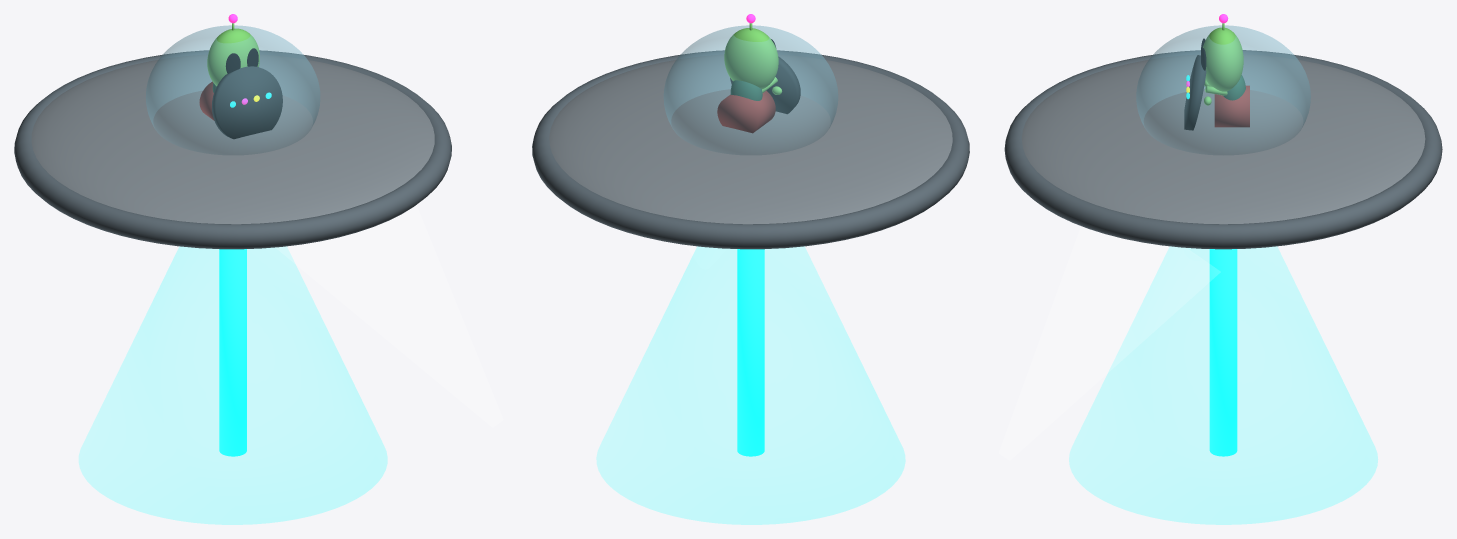
Rendered from Alien-Flying-Saucer-first.glb.
3 renders of one model, left to right at view 1: azimuth 30°, elevation 25°; view 2: azimuth 150°, elevation 25°; view 3: azimuth 270°, elevation 25°, orthographic.
Visible parts, largest first — view 1: TractorBeam_FX, Saucer_UpperHull, GlassDome, SearchlightBeam, Saucer_Rim, TractorBeam_Core, CockpitConsole, Alien_Head; view 2: TractorBeam_FX, Saucer_UpperHull, GlassDome, Saucer_Rim, TractorBeam_Core, Alien_Head, PilotSeat, CockpitConsole; view 3: TractorBeam_FX, Saucer_UpperHull, SearchlightBeam, GlassDome, Saucer_Rim, TractorBeam_Core, Alien_Head, PilotSeat, CockpitConsole.
Boxes of the visible parts, x1=… form: TractorBeam_FX: x1=79, y1=246, x2=387, y2=524; Saucer_UpperHull: x1=31, y1=54, x2=434, y2=224; GlassDome: x1=146, y1=25, x2=320, y2=154; SearchlightBeam: x1=277, y1=205, x2=502, y2=426; Saucer_Rim: x1=14, y1=50, x2=451, y2=249; TractorBeam_Core: x1=219, y1=249, x2=246, y2=456; CockpitConsole: x1=212, y1=66, x2=282, y2=139; Alien_Head: x1=207, y1=28, x2=259, y2=86; TractorBeam_FX: x1=596, y1=246, x2=905, y2=524; Saucer_UpperHull: x1=549, y1=54, x2=952, y2=224; GlassDome: x1=663, y1=25, x2=838, y2=154; Saucer_Rim: x1=532, y1=50, x2=969, y2=249; TractorBeam_Core: x1=737, y1=249, x2=764, y2=456; Alien_Head: x1=724, y1=28, x2=778, y2=89; PilotSeat: x1=717, y1=90, x2=775, y2=133; CockpitConsole: x1=730, y1=56, x2=800, y2=114; TractorBeam_FX: x1=1069, y1=246, x2=1377, y2=524; Saucer_UpperHull: x1=1022, y1=54, x2=1425, y2=224; SearchlightBeam: x1=999, y1=227, x2=1219, y2=459; GlassDome: x1=1136, y1=25, x2=1310, y2=154; Saucer_Rim: x1=1004, y1=50, x2=1442, y2=249; TractorBeam_Core: x1=1209, y1=249, x2=1237, y2=456; Alien_Head: x1=1203, y1=27, x2=1243, y2=91; PilotSeat: x1=1214, y1=85, x2=1249, y2=127; CockpitConsole: x1=1184, y1=55, x2=1206, y2=130.
Bounding box in the file's own units: 8.92 × 10.01 × 9.04.
